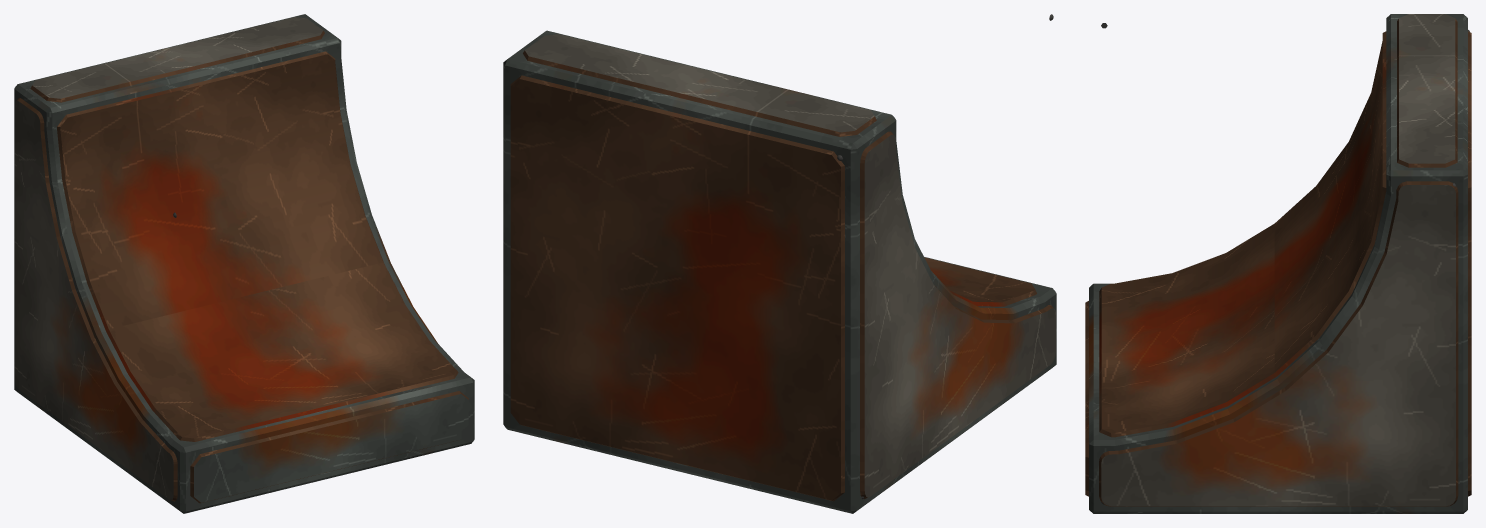
The model's file is R4B_CoveEdge.glb.
The picture shows the model from 3 angles, left to right: view 1: azimuth 30°, elevation 25°; view 2: azimuth 150°, elevation 25°; view 3: azimuth 270°, elevation 25°; orthographic projection. The views are drawn at different scales.
Parts seen in each view (by area): view 1: R4B_CoveEdge; view 2: R4B_CoveEdge; view 3: R4B_CoveEdge.
Part boxes in pixels (left/top/right/bottom): R4B_CoveEdge: left=14, top=14, right=474, bottom=513; R4B_CoveEdge: left=503, top=14, right=1056, bottom=513; R4B_CoveEdge: left=1085, top=14, right=1471, bottom=513.
Bounding box in the file's own units: 0.52 × 0.52 × 0.52.
Materials: 4 (4 with a texture image).
